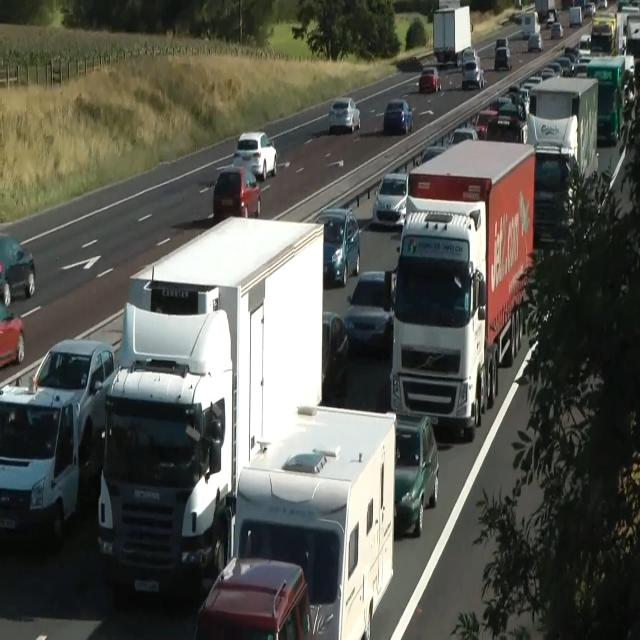bus: (194, 556, 312, 639), (30, 338, 116, 442), (393, 413, 439, 538), (342, 270, 394, 353), (314, 206, 360, 287), (212, 164, 260, 220), (0, 234, 36, 306), (232, 130, 278, 180), (321, 310, 349, 391), (372, 172, 408, 228), (0, 308, 24, 368), (328, 97, 360, 133), (383, 99, 413, 134), (472, 110, 498, 140), (415, 145, 447, 167), (447, 126, 479, 148), (461, 59, 484, 89), (418, 66, 441, 92), (624, 22, 640, 58), (494, 46, 512, 70), (528, 31, 544, 52), (556, 56, 572, 76), (461, 48, 476, 68), (617, 0, 639, 12), (550, 22, 564, 39), (495, 36, 509, 52), (584, 1, 596, 18), (546, 12, 556, 28), (598, 0, 608, 9)
car: (96, 298, 234, 599), (0, 336, 116, 546)
minibus: (97, 214, 325, 602), (389, 139, 535, 439), (229, 404, 397, 639), (521, 76, 599, 246), (586, 54, 636, 145), (432, 4, 473, 66), (615, 7, 639, 59), (521, 10, 541, 38), (569, 6, 583, 27)
